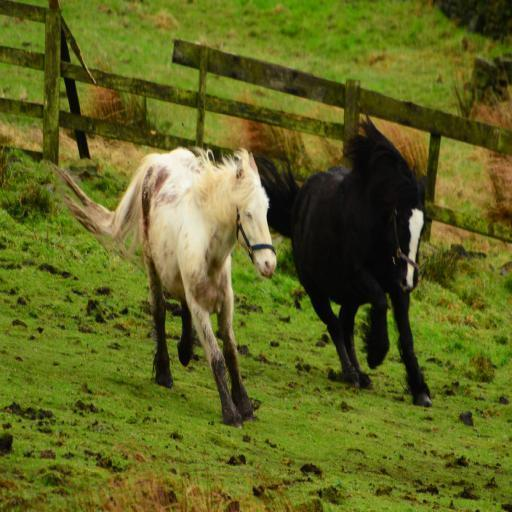horse: (47, 148, 278, 427), (250, 112, 428, 408)
